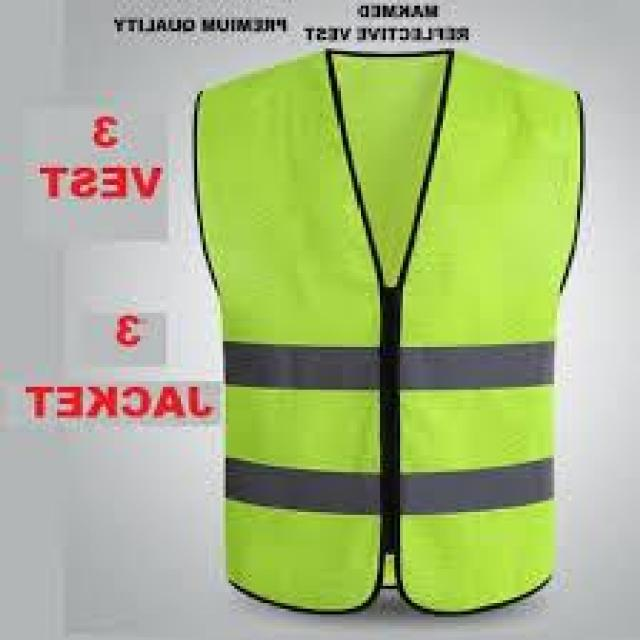Reflective-Jacket: (151, 25, 608, 640)
